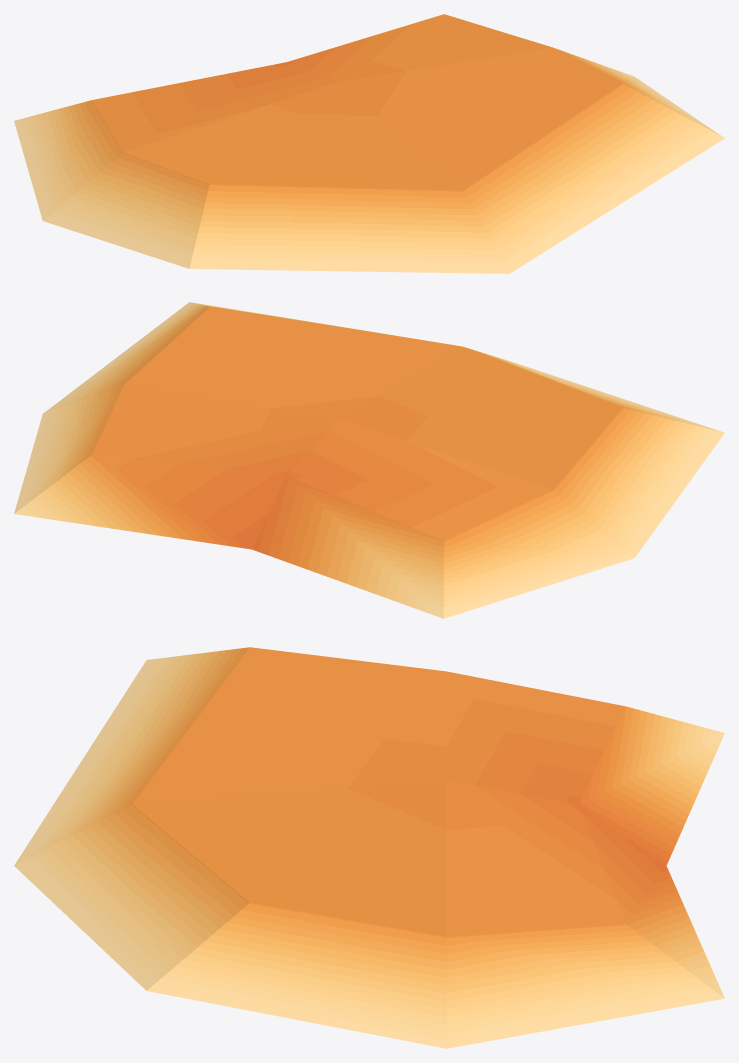
File: ChickenWoods_SmallFull.glb
3 views of the same model, one above another, from view 1: azimuth 30°, elevation 25°; view 2: azimuth 150°, elevation 25°; view 3: azimuth 270°, elevation 25° (orthographic). The views are drawn at different scales.
Parts seen in each view (by area): view 1: WoodsChicken_smallfull; view 2: WoodsChicken_smallfull; view 3: WoodsChicken_smallfull.
Part boxes in pixels (bbox=[...]): WoodsChicken_smallfull: bbox=[14, 14, 724, 273]; WoodsChicken_smallfull: bbox=[14, 302, 724, 618]; WoodsChicken_smallfull: bbox=[14, 647, 724, 1048].
Bounding box in the file's own units: 1.68 × 0.3189 × 1.38.
1 material, 1 textured.
